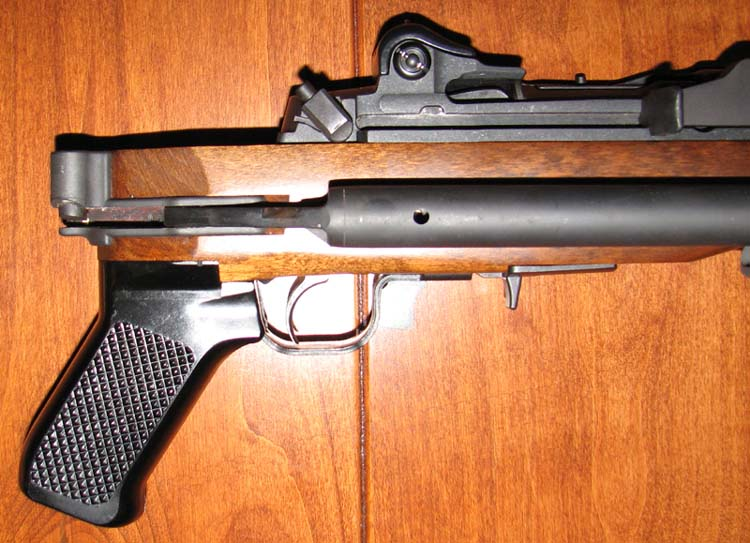rifle: (19, 30, 741, 517)
